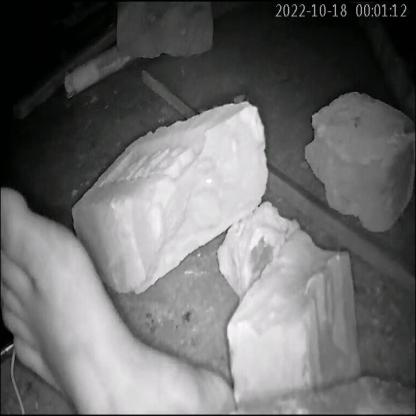leg: (1, 177, 241, 416)
